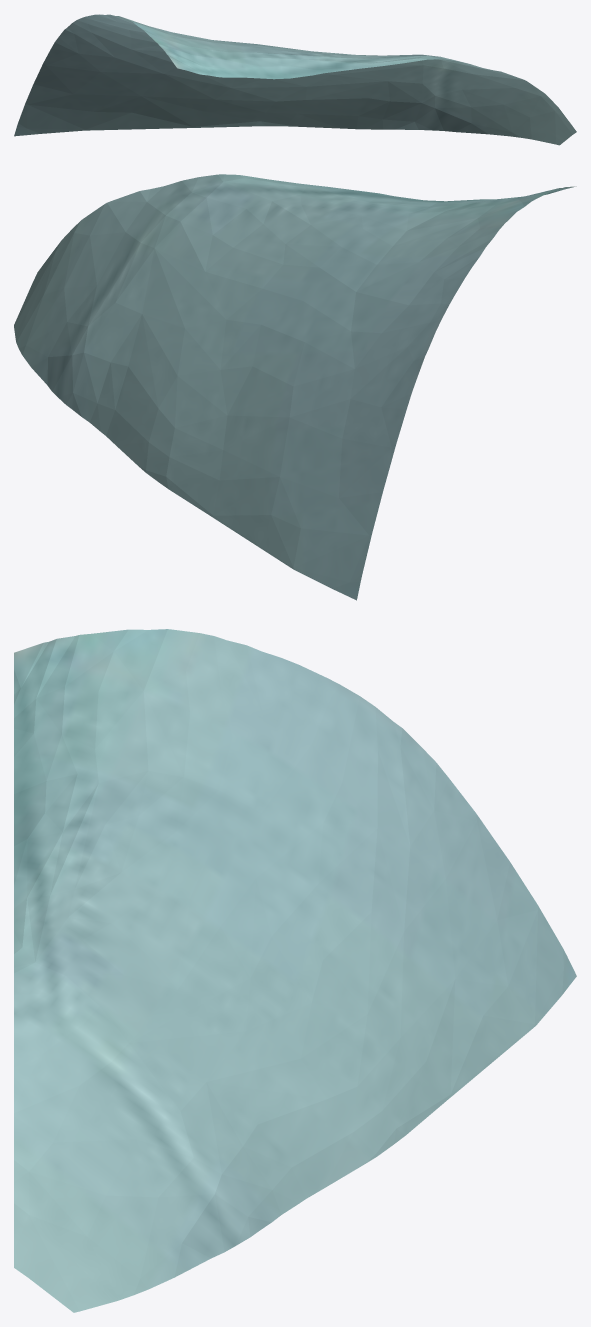
The picture shows the model from 3 angles, top to bottom: view 1: azimuth 30°, elevation 25°; view 2: azimuth 150°, elevation 25°; view 3: azimuth 270°, elevation 25°; orthographic projection. The views are drawn at different scales.
Parts seen in each view (by area): view 1: 091_W_Aya_100K_01; view 2: 091_W_Aya_100K_01; view 3: 091_W_Aya_100K_01.
Part boxes in pixels (left/top/right/bottom): 091_W_Aya_100K_01: left=14, top=14, right=576, bottom=145; 091_W_Aya_100K_01: left=14, top=174, right=576, bottom=600; 091_W_Aya_100K_01: left=14, top=629, right=576, bottom=1312.
Bounding box in the file's own units: 85.74 × 41.23 × 60.59.
1 material, 1 textured.
